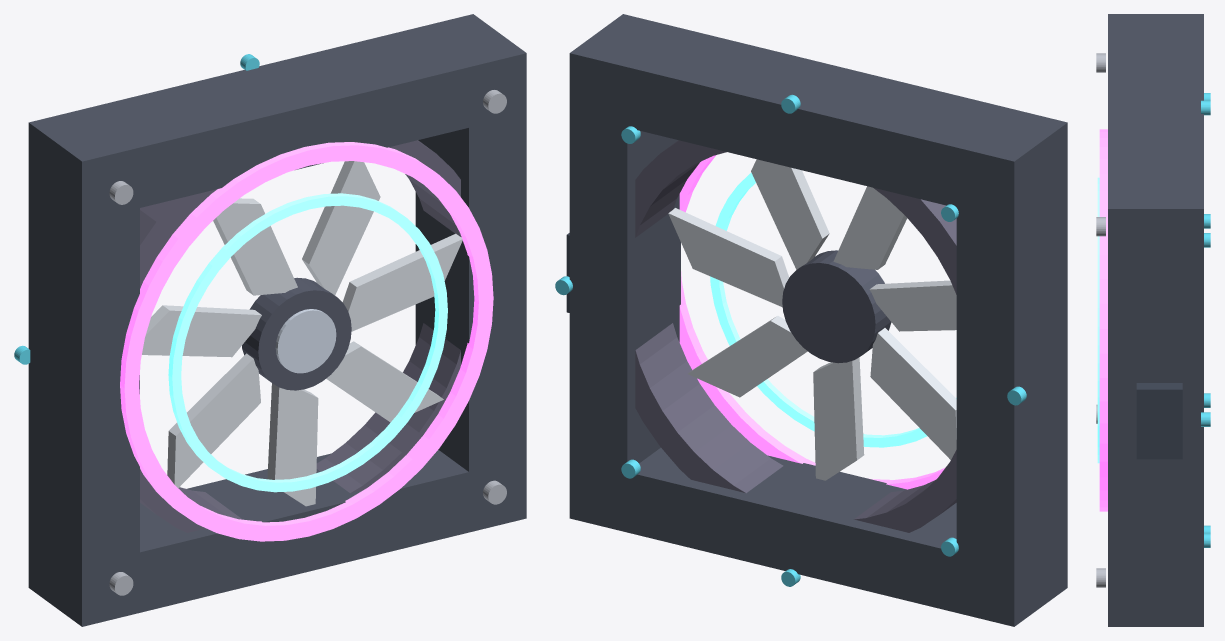
Rendered from corsair-qx120-rgb.glb.
The picture shows the model from 3 angles, left to right: view 1: azimuth 30°, elevation 25°; view 2: azimuth 150°, elevation 25°; view 3: azimuth 270°, elevation 25°; orthographic projection. The views are drawn at different scales.
Visible parts, largest first — view 1: QX120_frameTop-0, QX120_frameLeft-2, QX120_frameBottom-1, QX120_frameRight-3, QX120_RGB_outer-5, QX120_reflector-4, QX120_RGB_inner-6, QX120_hub-14, QX120_blade-11, QX120_blade-7, QX120_blade-8, QX120_blade-12 (+4 smaller); view 2: QX120_frameTop-0, QX120_frameLeft-2, QX120_frameBottom-1, QX120_frameRight-3, QX120_reflector-4, QX120_hub-14, QX120_blade-7, QX120_blade-11, QX120_blade-12, QX120_blade-13, QX120_blade-8, QX120_RGB_outer-5 (+3 smaller); view 3: QX120_frameRight-3, QX120_frameTop-0, QX120_frameBottom-1, iCUE_LINK_socket-20, QX120_RGB_outer-5, QX120_frameLeft-2, QX120_RGB_inner-6, QX120_screw-17, QX120_screw-18, QX120_screw-19.
Part boxes in pixels (<box>): QX120_frameTop-0: <box>28,14,526,221</box>; QX120_frameLeft-2: <box>28,108,139,626</box>; QX120_frameBottom-1: <box>28,449,526,626</box>; QX120_frameRight-3: <box>415,14,526,529</box>; QX120_RGB_outer-5: <box>120,142,493,541</box>; QX120_reflector-4: <box>140,140,460,532</box>; QX120_RGB_inner-6: <box>168,193,447,492</box>; QX120_hub-14: <box>242,277,351,390</box>; QX120_blade-11: <box>167,353,260,488</box>; QX120_blade-7: <box>342,233,462,331</box>; QX120_blade-8: <box>302,161,380,295</box>; QX120_blade-12: <box>267,383,318,506</box>; QX120_frameTop-0: <box>569,14,1067,221</box>; QX120_frameLeft-2: <box>956,109,1067,626</box>; QX120_frameBottom-1: <box>569,448,1067,626</box>; QX120_frameRight-3: <box>569,15,680,521</box>; QX120_reflector-4: <box>635,140,956,532</box>; QX120_hub-14: <box>782,250,891,363</box>; QX120_blade-7: <box>668,208,789,307</box>; QX120_blade-11: <box>870,328,956,459</box>; QX120_blade-12: <box>813,357,864,480</box>; QX120_blade-13: <box>688,316,807,397</box>; QX120_blade-8: <box>751,159,829,269</box>; QX120_RGB_outer-5: <box>679,155,945,489</box>; QX120_frameRight-3: <box>1108,183,1203,626</box>; QX120_frameTop-0: <box>1108,14,1203,263</box>; QX120_frameBottom-1: <box>1108,572,1203,626</box>; iCUE_LINK_socket-20: <box>1136,383,1182,459</box>; QX120_RGB_outer-5: <box>1099,129,1107,511</box>; QX120_frameLeft-2: <box>1108,14,1203,39</box>; QX120_RGB_inner-6: <box>1097,177,1099,463</box>; QX120_screw-17: <box>1096,53,1105,72</box>; QX120_screw-18: <box>1096,568,1105,587</box>; QX120_screw-19: <box>1096,217,1105,236</box>.
Size of the model in its own units: 1.27 by 1.26 by 0.2975.
